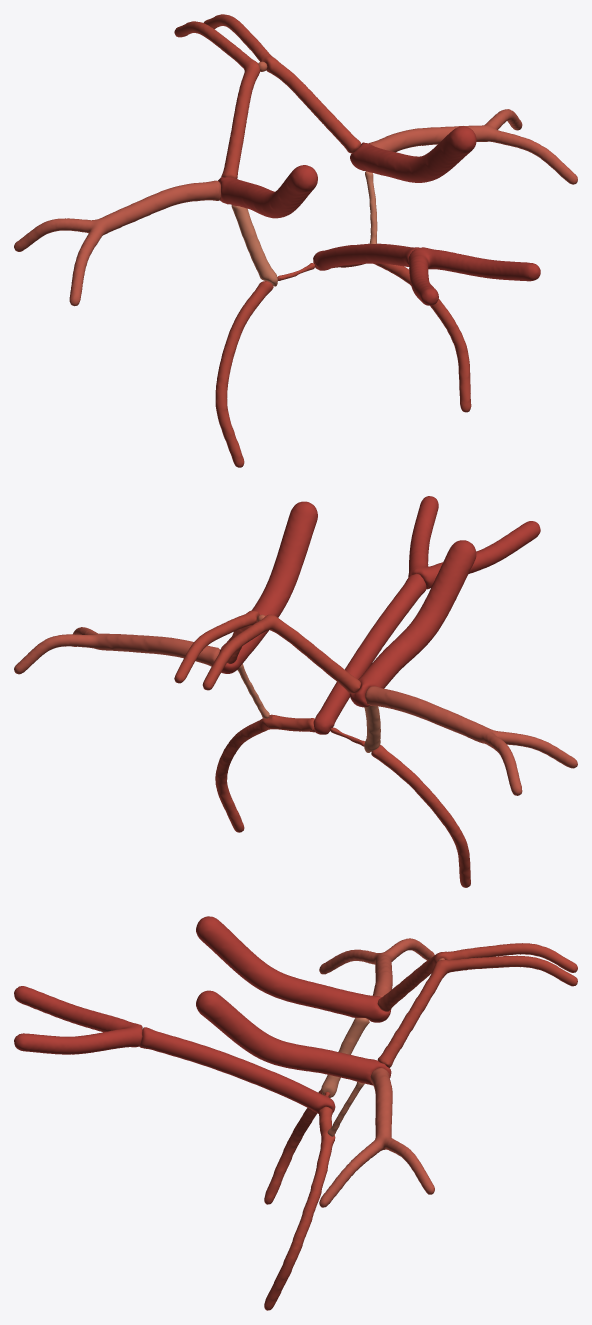
Rendered from willis_fetal_pca.glb.
3 renders of one model, top to bottom at view 1: azimuth 30°, elevation 25°; view 2: azimuth 150°, elevation 25°; view 3: azimuth 270°, elevation 25°, orthographic. The views are drawn at different scales.
Visible parts, largest first — view 1: middle_cerebrals, internal_carotids, anterior_cerebrals, posterior_cerebrals, vertebral_arteries, basilar_artery, posterior_communicatings; view 2: internal_carotids, middle_cerebrals, posterior_cerebrals, anterior_cerebrals, basilar_artery, vertebral_arteries, posterior_communicatings; view 3: internal_carotids, anterior_cerebrals, middle_cerebrals, vertebral_arteries, basilar_artery, posterior_cerebrals, posterior_communicatings.
Part boxes in pixels (x1,y1,x2,y2): middle_cerebrals: (14,109,577,306); internal_carotids: (218,126,476,218); anterior_cerebrals: (174,14,360,178); posterior_cerebrals: (215,263,471,467); vertebral_arteries: (408,247,540,305); basilar_artery: (313,243,419,270); posterior_communicatings: (231,171,377,286); internal_carotids: (219,501,476,707); middle_cerebrals: (14,627,577,795); posterior_cerebrals: (215,714,470,887); anterior_cerebrals: (174,610,360,693); basilar_artery: (313,573,426,734); vertebral_arteries: (408,496,540,589); posterior_communicatings: (237,664,380,752); internal_carotids: (196,916,391,1085); anterior_cerebrals: (377,943,577,1067); middle_cerebrals: (319,938,434,1207); vertebral_arteries: (14,986,142,1054); basilar_artery: (139,1027,335,1113); posterior_cerebrals: (264,1089,335,1310); posterior_communicatings: (321,1018,369,1136).
Size of the model in its own units: 17.9 by 10.8 by 17.99.
